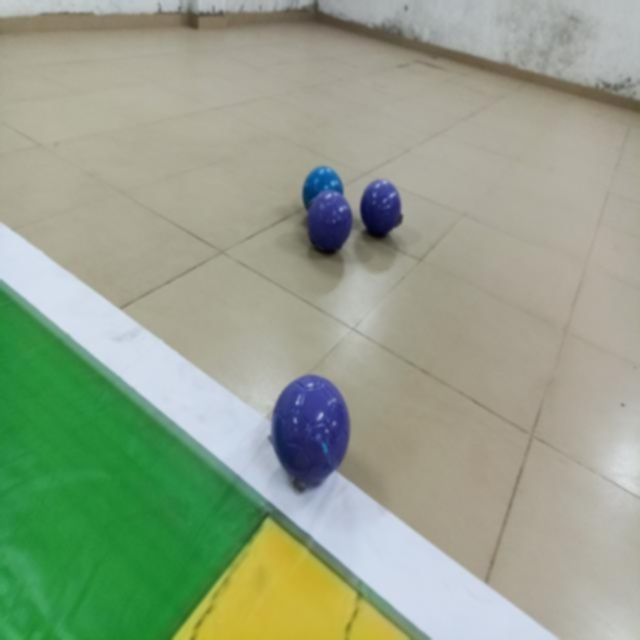blue_ball: (302, 167, 344, 211)
purple_ball: (274, 376, 350, 482), (310, 192, 352, 253), (360, 181, 401, 238)
